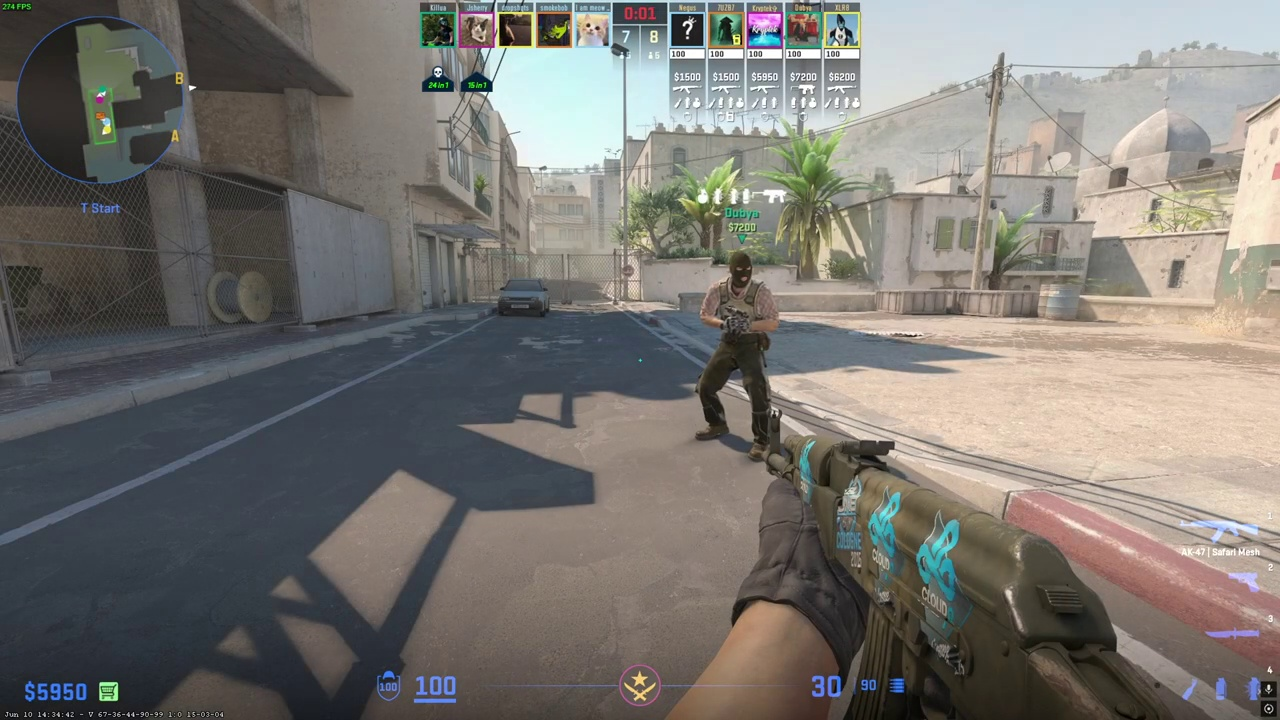Terrorist: (695, 250, 778, 458)
